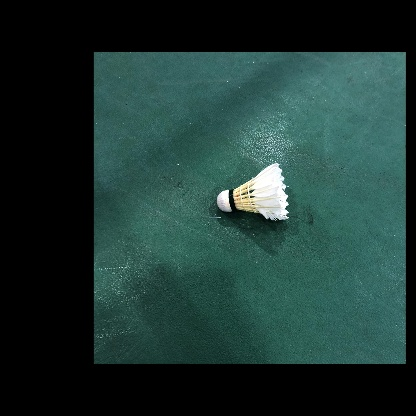ball_single: (217, 163, 289, 221)
